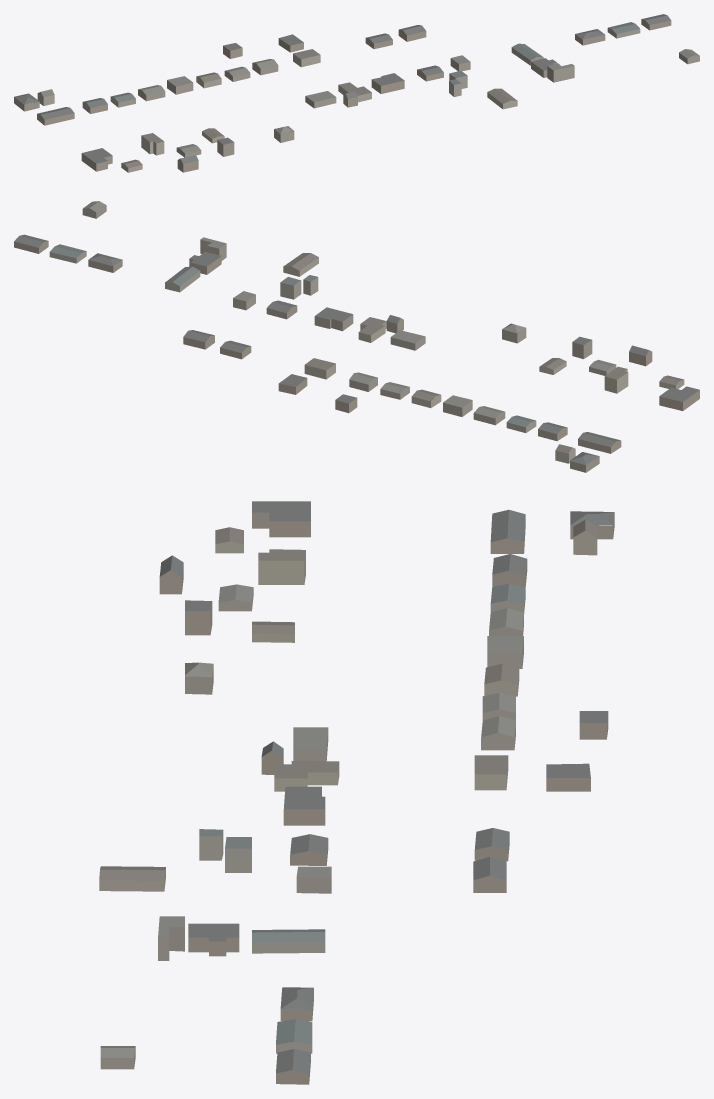
Rendered from e5880ea8293f-chunk-1207_11844.glb.
The picture shows the model from 3 angles, top to bottom: view 1: azimuth 30°, elevation 25°; view 2: azimuth 150°, elevation 25°; view 3: azimuth 270°, elevation 25°; orthographic projection. The views are drawn at different scales.
Parts seen in each view (by area): view 1: building_125388, building_73688, building_161876, building_8294, building_112483, building_165379, building_83036, building_7487, building_57843, building_120038, building_131078, building_89191 (+18 smaller); view 2: building_125388, building_73688, building_161876, building_57843, building_112483, building_89191, building_165379, building_121272, building_83036, building_7487, building_120038, building_131078 (+10 smaller); view 3: building_125388, building_57843, building_112483, building_165379, building_89191, building_73688, building_121272, building_161876, building_118034, building_7487, building_83036, building_138488 (+19 smaller).
Boxes of the visible parts, box(x1,y1,x2,y2) form: building_125388: box(81, 148, 112, 171); building_73688: box(371, 73, 404, 93); building_161876: box(37, 107, 74, 125); building_8294: box(547, 63, 574, 82); building_112483: box(487, 88, 517, 109); building_165379: box(141, 133, 164, 155); building_83036: box(305, 91, 336, 108); building_7487: box(293, 49, 320, 67); building_57843: box(511, 43, 543, 65); building_120038: box(167, 76, 193, 94); building_131078: box(607, 22, 640, 38); building_89191: box(338, 82, 371, 102); building_125388: box(659, 386, 699, 410); building_73688: box(314, 307, 353, 331); building_161876: box(578, 432, 621, 453); building_57843: box(165, 266, 200, 292); building_112483: box(283, 253, 318, 276); building_89191: box(358, 317, 386, 342); building_165379: box(604, 366, 628, 393); building_121272: box(189, 252, 221, 274); building_83036: box(390, 330, 425, 350); building_7487: box(304, 358, 335, 379); building_120038: box(443, 395, 472, 416); building_131078: box(49, 244, 86, 263); building_125388: box(252, 501, 310, 537); building_57843: box(252, 929, 325, 953); building_112483: box(99, 866, 165, 891); building_165379: box(258, 549, 305, 584); building_89191: box(274, 761, 339, 791); building_73688: box(283, 786, 325, 825); building_121272: box(188, 923, 239, 956); building_161876: box(490, 509, 525, 553); building_118034: box(546, 763, 590, 791); building_7487: box(474, 755, 508, 790); building_83036: box(293, 727, 328, 761); building_138488: box(276, 1049, 310, 1084).
Size of the model in its own units: 380 by 7.6 by 146.
